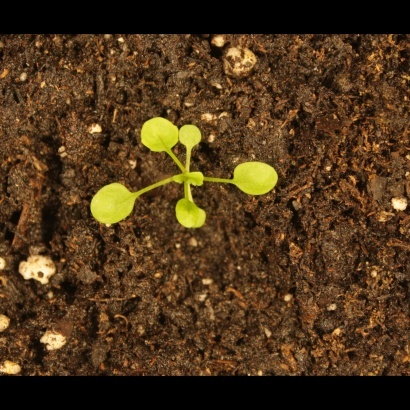leaf: (85, 182, 145, 229), (230, 160, 285, 199), (138, 114, 182, 154), (172, 194, 212, 236), (178, 115, 208, 155), (172, 166, 209, 195)
